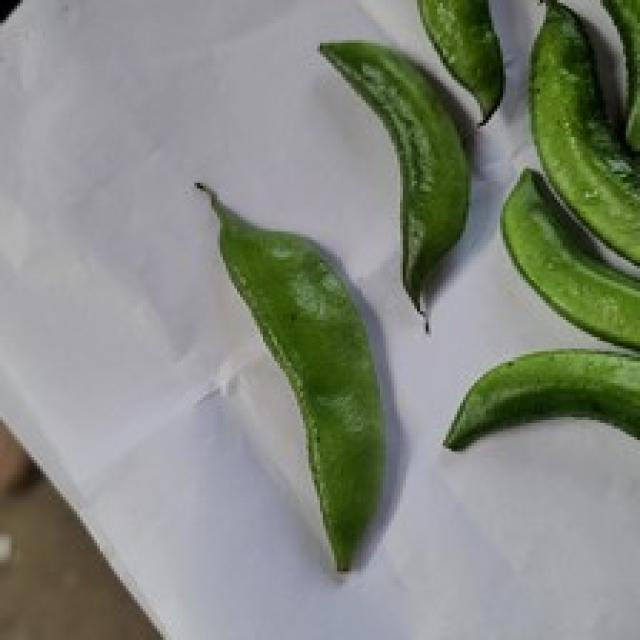Bean: (184, 176, 389, 582), (314, 30, 476, 322), (526, 0, 637, 289), (451, 337, 640, 448), (414, 0, 503, 126)
